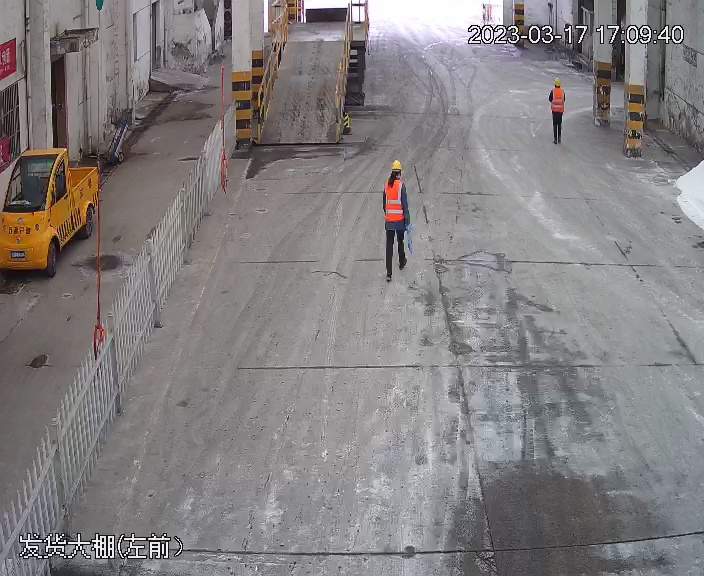head: (383, 159, 409, 194), (550, 77, 566, 98)
helmet: (391, 159, 403, 171), (553, 77, 562, 86)
people: (381, 157, 414, 278), (547, 75, 567, 146)
